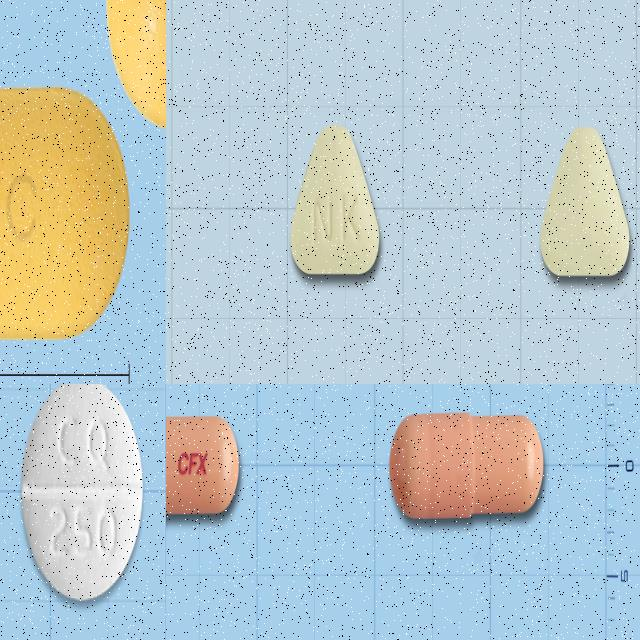Aris: (288, 116, 384, 288), (538, 120, 632, 282)
Cefixime Cap- Mothers: (387, 406, 548, 524), (166, 405, 243, 531)
Claricin - 500mg: (0, 80, 133, 347)
Cq Robey: (22, 384, 143, 600)
